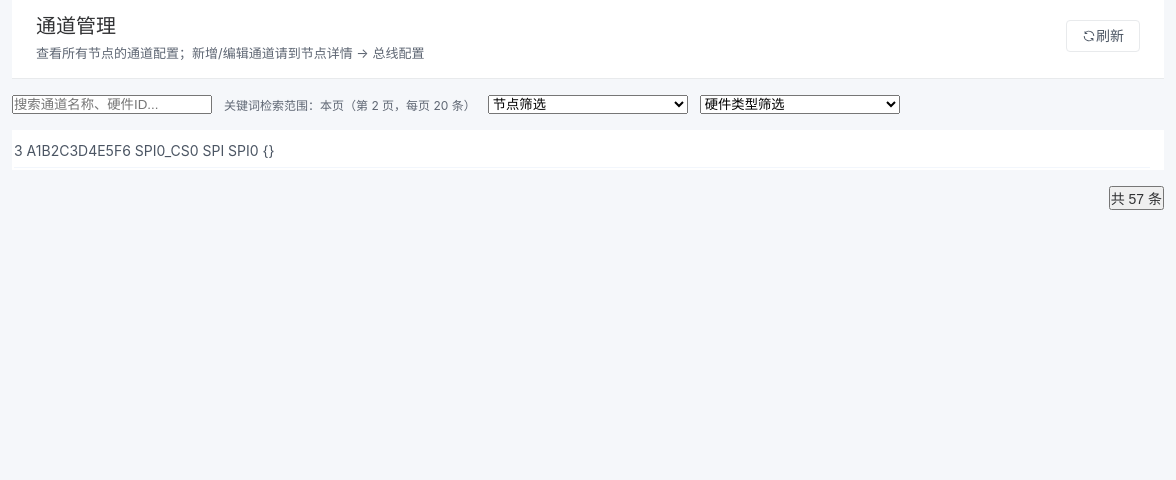
ChannelList.vue › 关键词在本页无匹配但全库有数据时，空态必须说清是「本页」无匹配
Type "I2C0_0x77" into the field with placeholder "搜索通道名称、硬件ID..." at (112, 104), box [12,95,212,114]
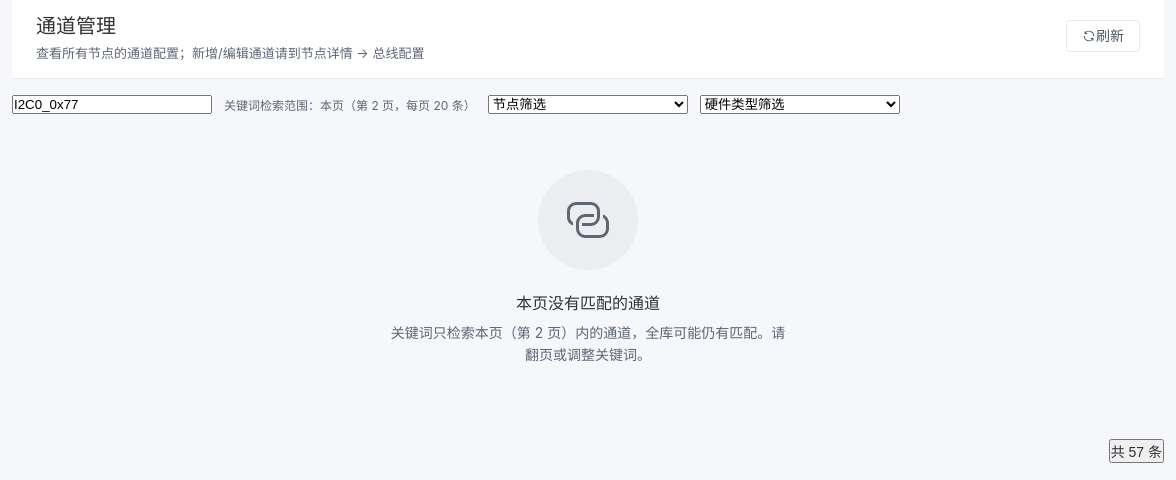
Expected: no rows are shown
Expected: the number of "EmptyState" components is 1, [391,170,785,363]
